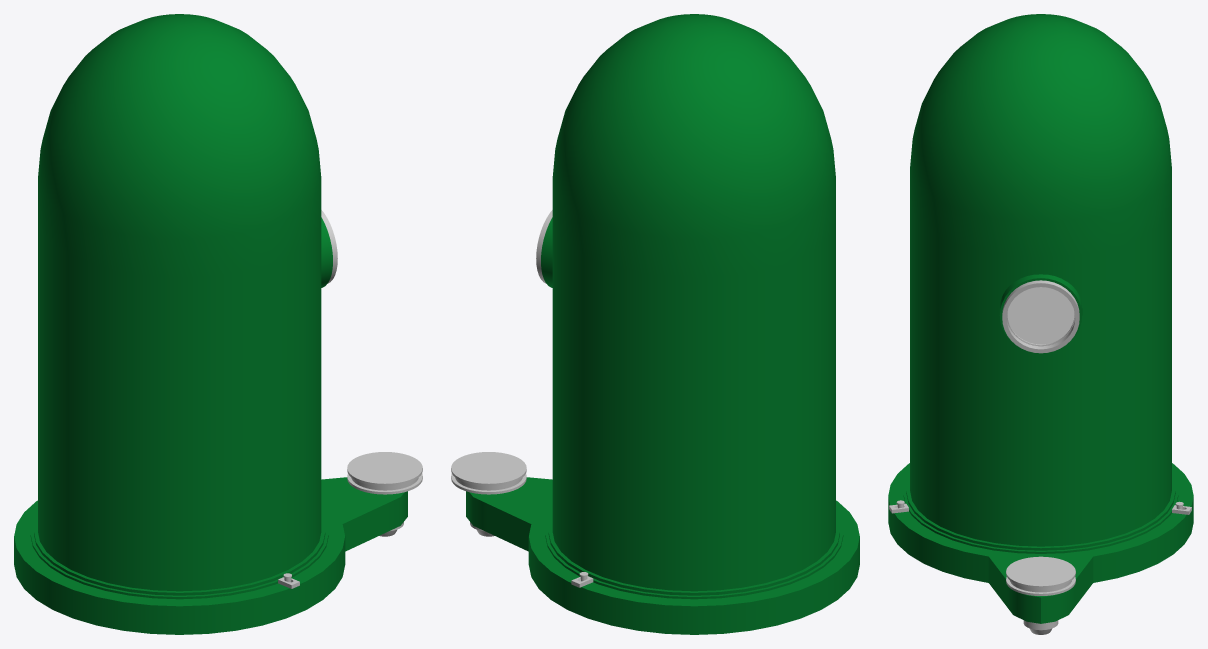
The picture shows the model from 3 angles, left to right: view 1: azimuth 30°, elevation 25°; view 2: azimuth 150°, elevation 25°; view 3: azimuth 270°, elevation 25°; orthographic projection. The views are drawn at different scales.
Parts seen in each view (by area): view 1: 胶囊, 内嵌螺丝, 透镜; view 2: 胶囊, 内嵌螺丝, 透镜; view 3: 胶囊, 透镜, 内嵌螺丝.
Boxes of the visible parts, x1,y1,x2,y2 form: 胶囊: [14, 14, 407, 634]; 内嵌螺丝: [347, 452, 422, 536]; 透镜: [321, 210, 337, 287]; 胶囊: [466, 14, 859, 634]; 内嵌螺丝: [451, 452, 526, 536]; 透镜: [536, 210, 552, 287]; 胶囊: [888, 14, 1193, 623]; 透镜: [999, 274, 1082, 353]; 内嵌螺丝: [1006, 556, 1075, 634].
Bounding box in the file's own units: 93.19 × 130 × 70.03.
